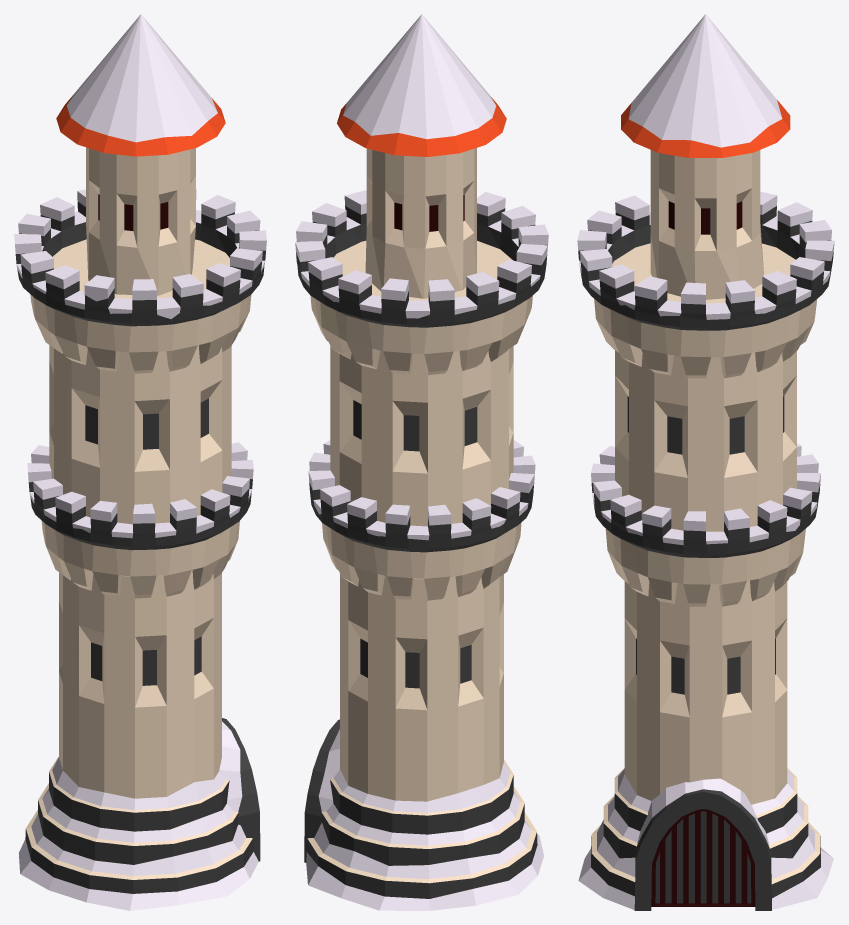
File: tower3.glb
The picture shows the model from 3 angles, left to right: view 1: azimuth 30°, elevation 25°; view 2: azimuth 150°, elevation 25°; view 3: azimuth 270°, elevation 25°; orthographic projection.
Visible parts, largest first — view 1: Tower3; view 2: Tower3; view 3: Tower3.
Boxes of the visible parts, bbox=[...] form: Tower3: bbox=[14, 14, 266, 910]; Tower3: bbox=[295, 14, 548, 910]; Tower3: bbox=[577, 14, 834, 910].
Size of what is drawn, in the model's own units: 3.92 by 14.38 by 3.92.
Materials: 1 (1 with a texture image).
